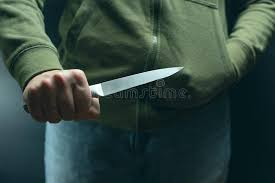knife: (96, 54, 194, 99)
